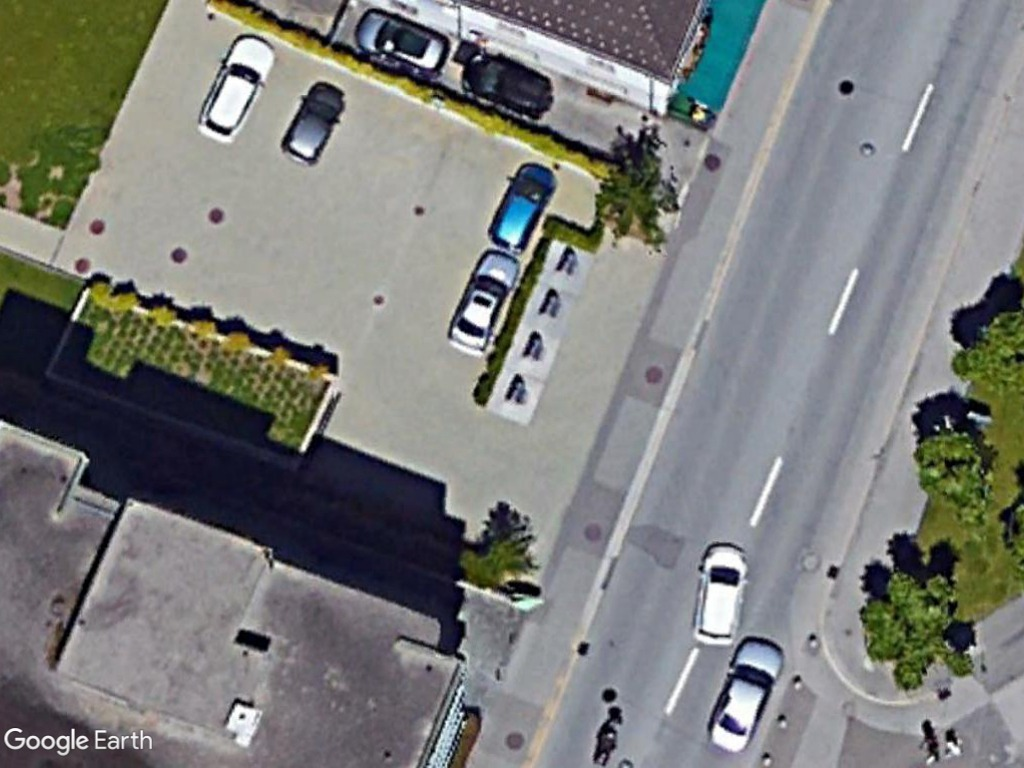car: (444, 243, 530, 361), (705, 634, 785, 756), (198, 30, 274, 145), (487, 154, 564, 258), (690, 534, 757, 652), (350, 11, 453, 78), (277, 78, 344, 170)
